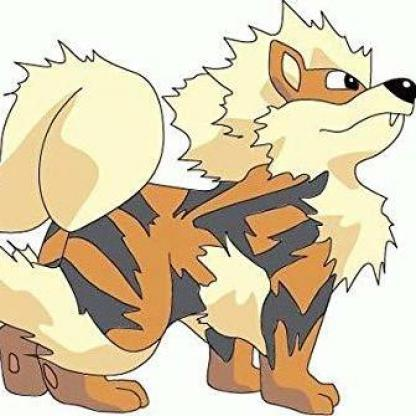Arcanine: (27, 8, 400, 416)
